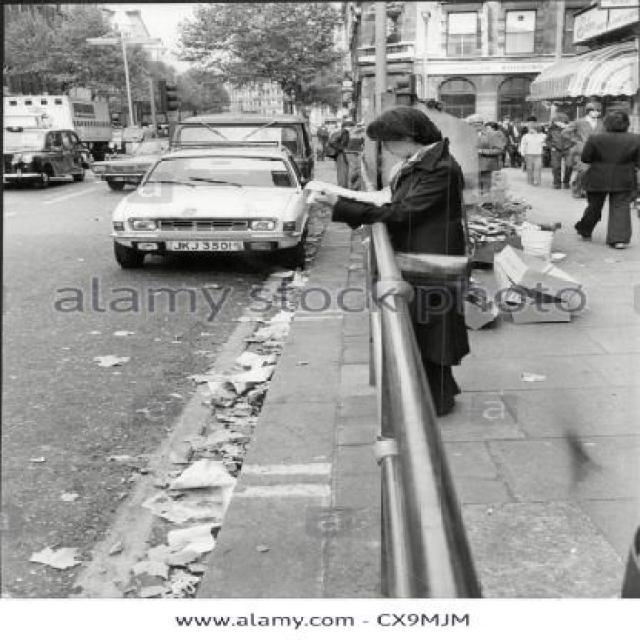garbage: (468, 220, 578, 333)
